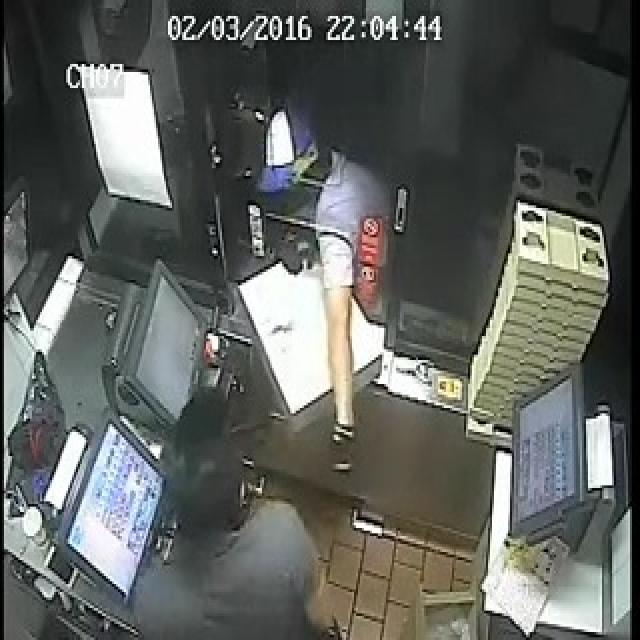thief: (258, 79, 376, 309)
